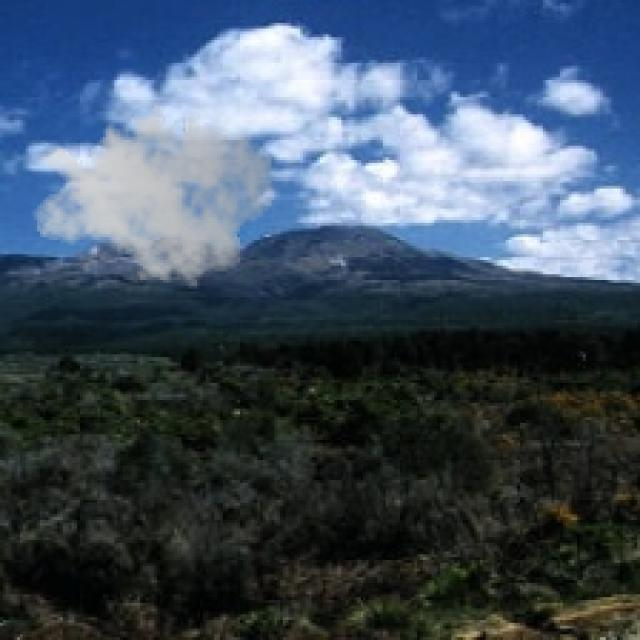smoke: (32, 92, 277, 294)
